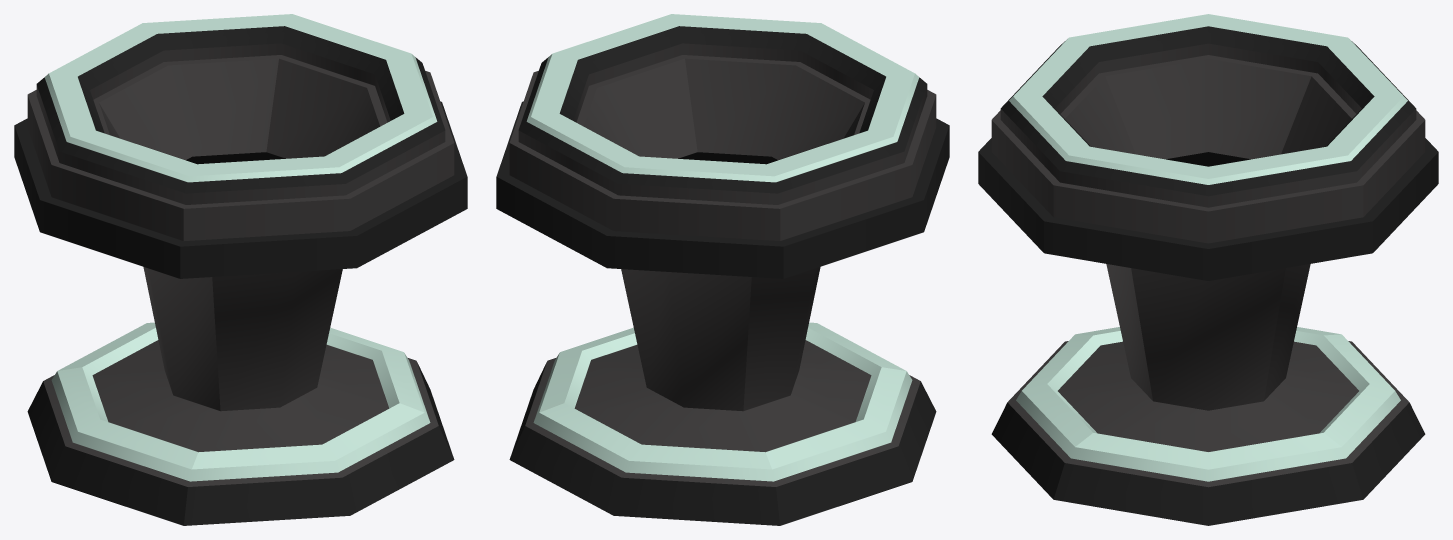
The model's file is winter-brazier-v2.glb.
3 views of the same model, side by side, from view 1: azimuth 30°, elevation 25°; view 2: azimuth 150°, elevation 25°; view 3: azimuth 270°, elevation 25° (orthographic).
Visible parts, largest first — view 1: WinterBrazier_v2; view 2: WinterBrazier_v2; view 3: WinterBrazier_v2.
Boxes of the visible parts, bbox=[...] form: WinterBrazier_v2: bbox=[14, 14, 467, 525]; WinterBrazier_v2: bbox=[496, 14, 949, 525]; WinterBrazier_v2: bbox=[978, 14, 1438, 525].
Size of the model in its own units: 190 by 154 by 190.
Materials: 1 (1 with a texture image).
